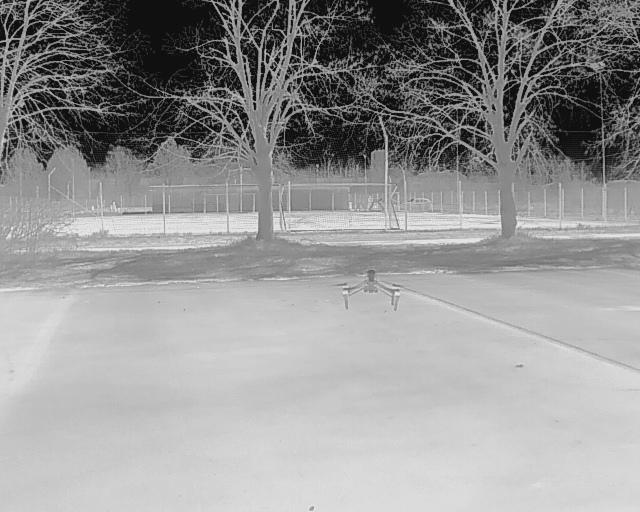drone: (329, 266, 412, 314)
